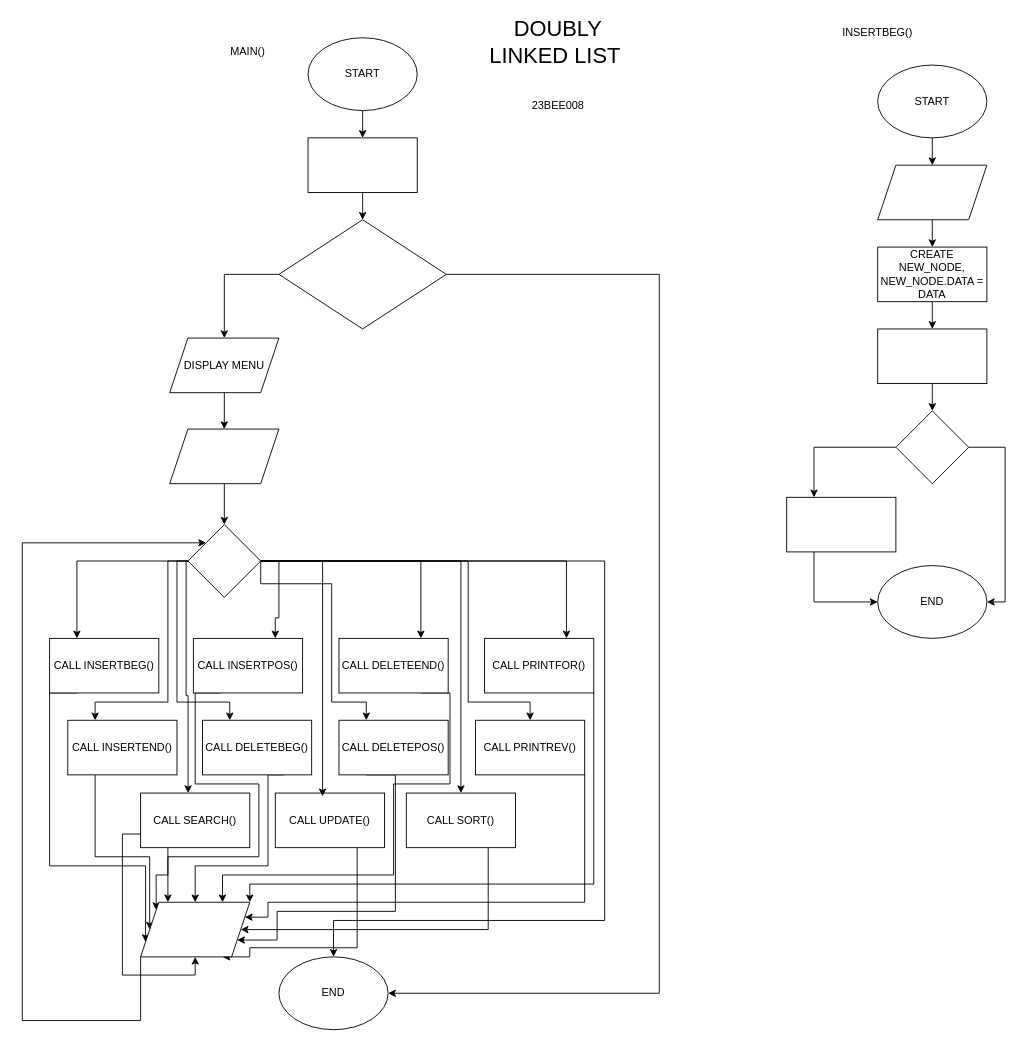
The diagram is 1028 pixels wide and 1046 high, and some of its shapes have lost their labels. The shapes that lost their labels are listed below. From the top down, each one's box as (x1, y1, x2, y2) in pixels, then its label:
(307, 137, 417, 192): HEAD = NULL, USER_ACTIVE = 'Y'
(877, 164, 987, 220): GET DATA
(278, 219, 446, 329): USER_ACTIVE == 'Y' OR 'y'?
(877, 328, 987, 384): NEW_NODE.PREV = NULL, NEW_NODE.NEXT = HEAD
(169, 428, 279, 484): GET CHOICE
(895, 410, 969, 484): HEAD != NULL?
(786, 496, 896, 552): HEAD.PREV = NEW_NODE, HEAD = NEW_NODE
(187, 524, 261, 597): CHECK CHOICE
(140, 901, 250, 957): ASK CHOICE
